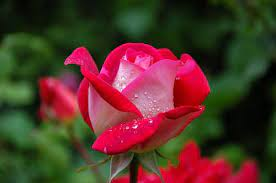lale: (58, 34, 213, 183)
